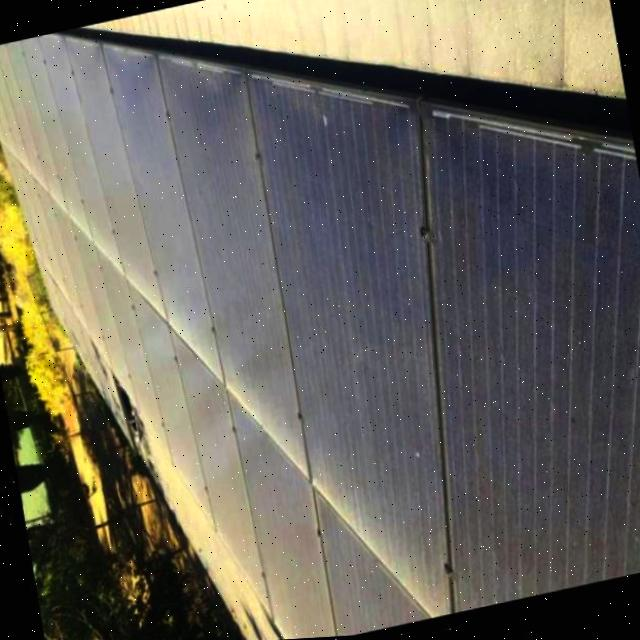Surface Contaminant: (242, 69, 449, 623), (422, 108, 640, 620), (156, 51, 315, 494), (99, 44, 225, 393), (166, 328, 270, 619), (60, 31, 160, 323), (222, 391, 335, 640), (33, 34, 122, 277), (131, 291, 210, 531), (96, 249, 174, 477), (316, 493, 426, 640)
